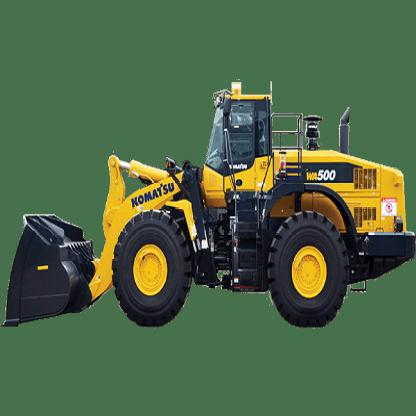bull_dozer/loader/grader: (4, 52, 416, 350)
